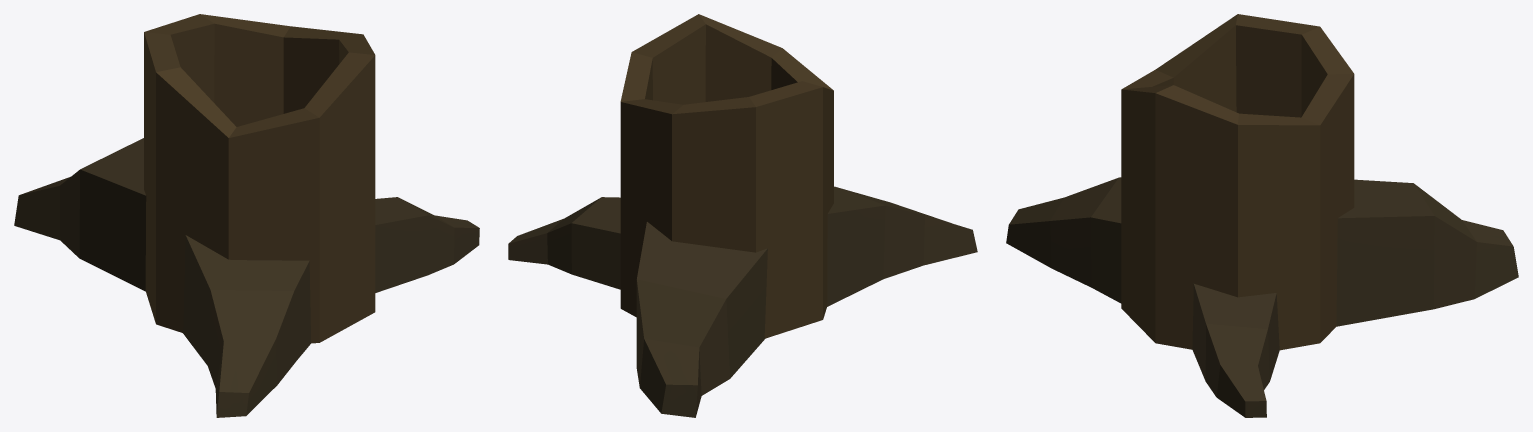
File: Arbre_mort.fbx
3 renders of one model, left to right at view 1: azimuth 30°, elevation 25°; view 2: azimuth 150°, elevation 25°; view 3: azimuth 270°, elevation 25°, orthographic. The views are drawn at different scales.
Parts seen in each view (by area): view 1: Arbre_mort; view 2: Arbre_mort; view 3: Arbre_mort.
Boxes of the visible parts, bbox=[...] form: Arbre_mort: bbox=[14, 14, 479, 417]; Arbre_mort: bbox=[508, 14, 977, 417]; Arbre_mort: bbox=[1006, 14, 1518, 417].
Size of the model in its own units: 838 by 554 by 1004.
